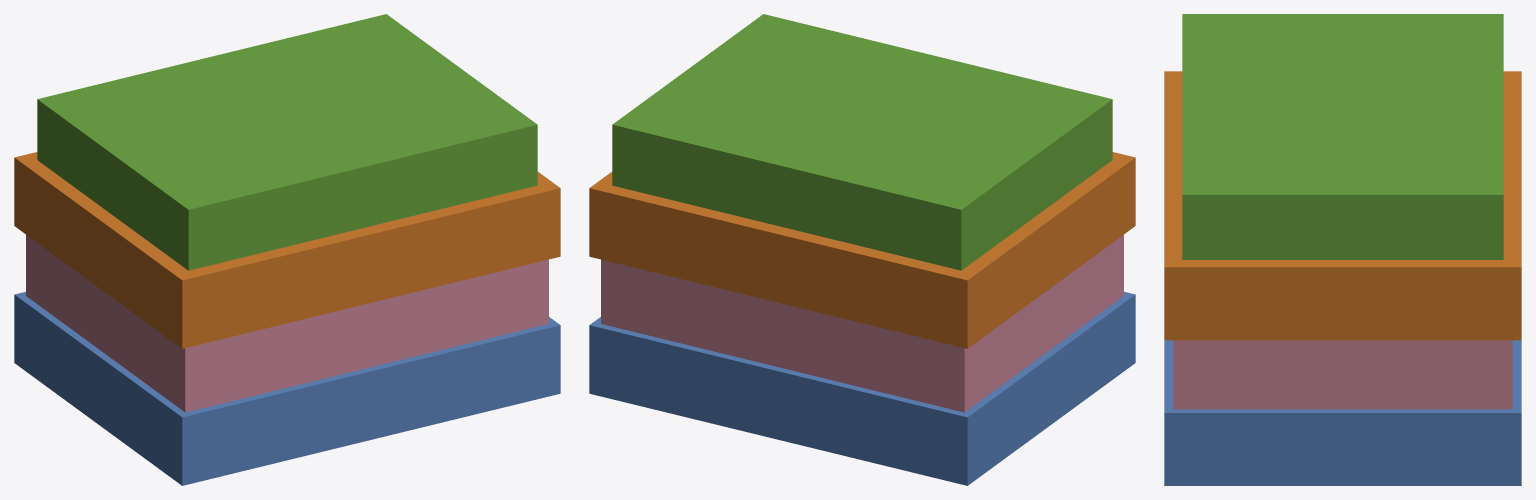
File: cp-folded-clothes.glb
The picture shows the model from 3 angles, left to right: view 1: azimuth 30°, elevation 25°; view 2: azimuth 150°, elevation 25°; view 3: azimuth 270°, elevation 25°; orthographic projection. The views are drawn at different scales.
Visible parts, largest first — view 1: box-prop; view 2: box-prop; view 3: box-prop.
Boxes of the visible parts, box(x1,y1,x2,y2) form: box-prop: box(14, 14, 560, 485); box-prop: box(589, 14, 1135, 485); box-prop: box(1164, 14, 1521, 485).
Size of the model in its own units: 0.52 by 0.35 by 0.4.
